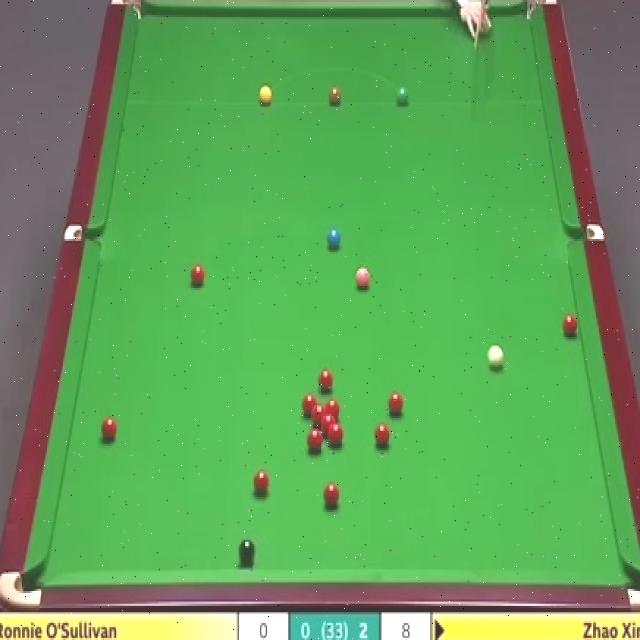black-ball: (238, 536, 255, 566)
blue-ball: (326, 226, 342, 251)
brown-ball: (328, 84, 342, 106)
green-ball: (395, 88, 409, 108)
pink-ball: (356, 266, 370, 289)
red-ball: (373, 422, 392, 451), (386, 390, 405, 419), (562, 311, 579, 339), (101, 414, 118, 442), (252, 471, 269, 496), (324, 481, 339, 509), (318, 369, 333, 395), (307, 428, 322, 454), (190, 263, 205, 286), (302, 393, 316, 417), (329, 423, 343, 447), (326, 399, 340, 420), (312, 404, 326, 424), (322, 414, 335, 434)
white-ball: (485, 340, 506, 372)
yellow-ball: (258, 86, 272, 108)
